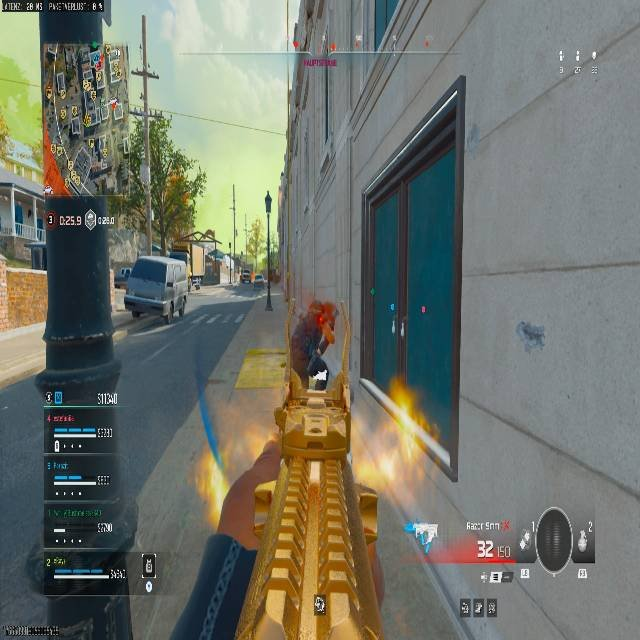player: (308, 299, 335, 386)
